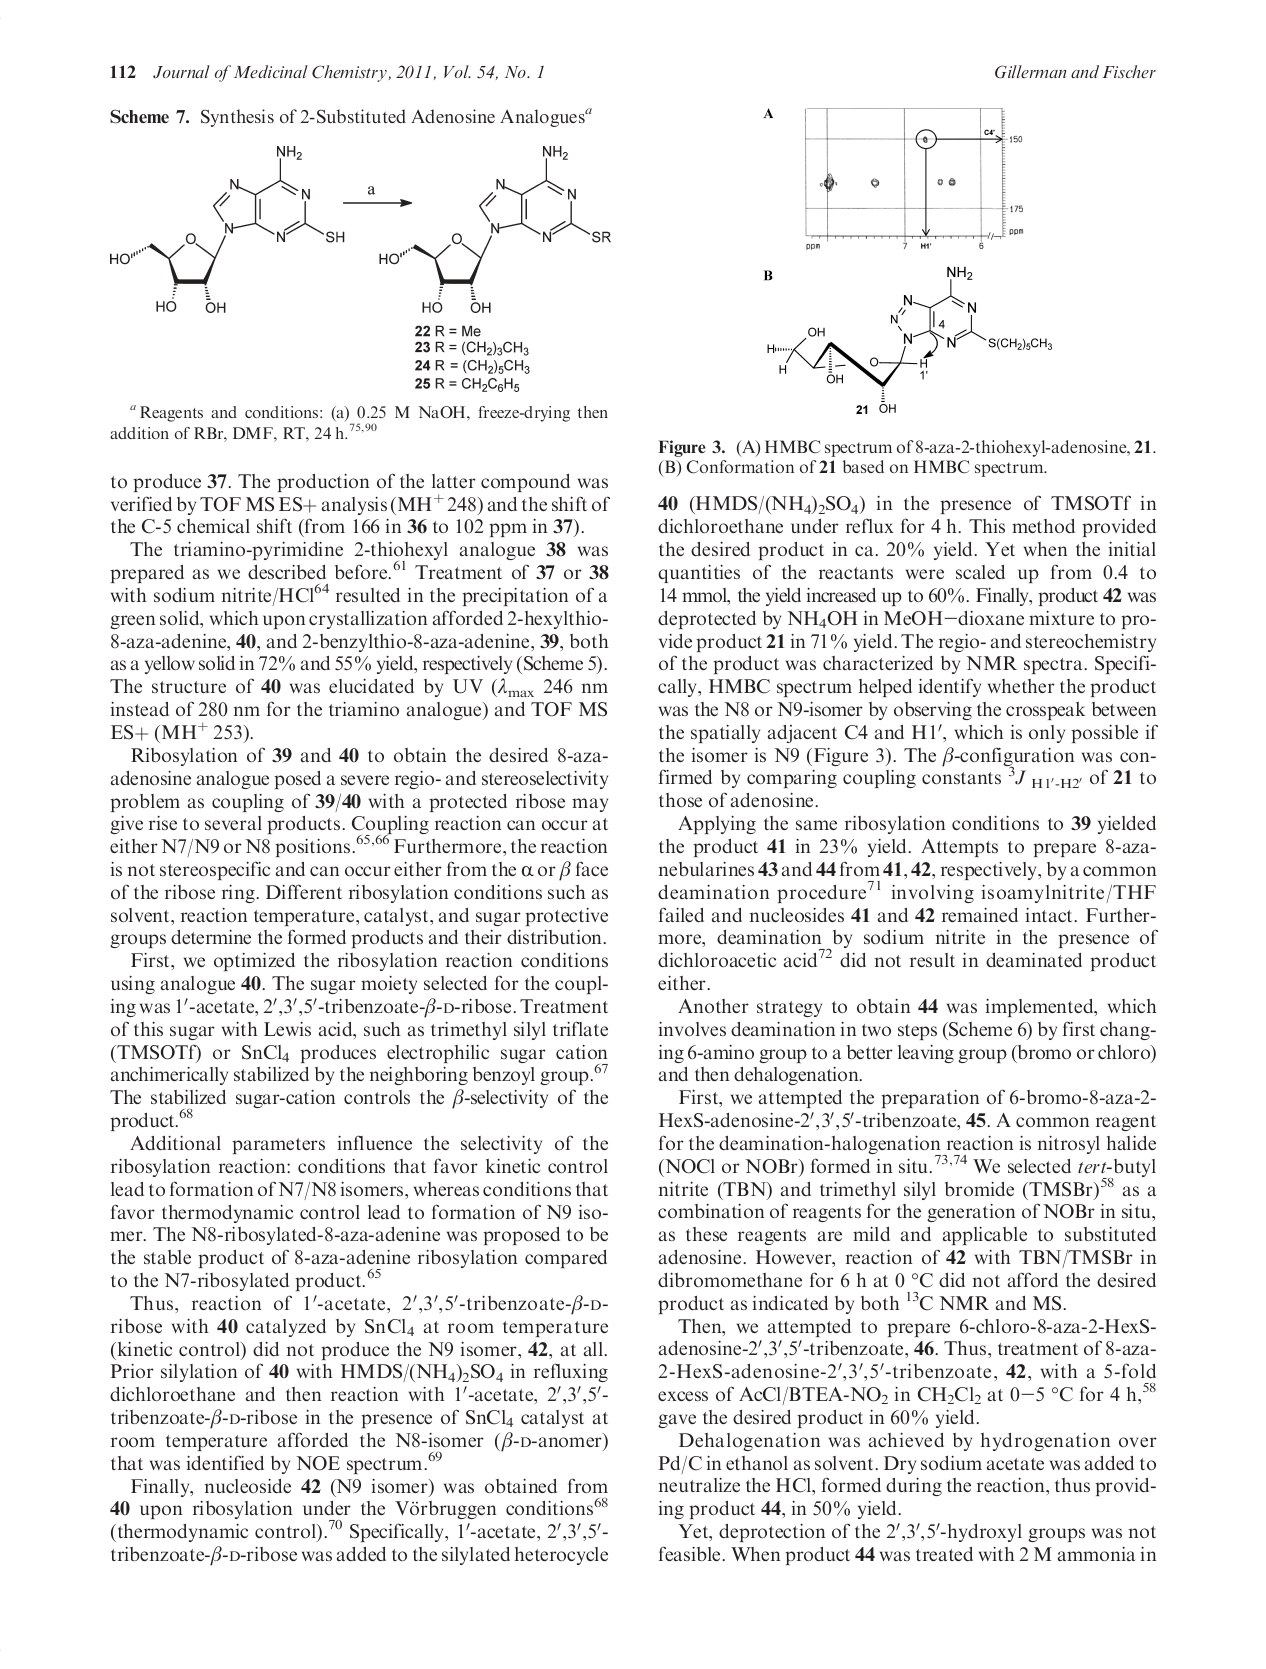exist_molecular: (765, 265, 1056, 415), (104, 144, 348, 317), (376, 142, 610, 315)
